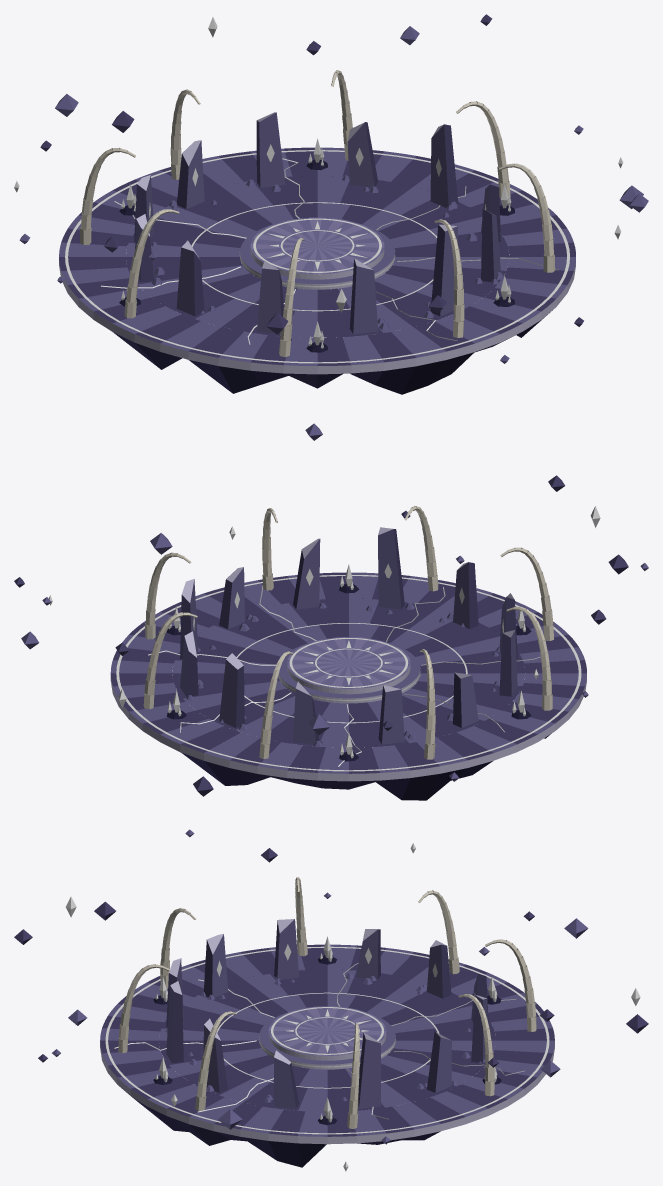
Rendered from arena.glb.
The picture shows the model from 3 angles, top to bottom: view 1: azimuth 30°, elevation 25°; view 2: azimuth 150°, elevation 25°; view 3: azimuth 270°, elevation 25°; orthographic projection. The views are drawn at different scales.
Visible parts, largest first — view 1: arena, accent; view 2: arena, accent; view 3: arena, accent.
Boxes of the visible parts, <box> form: arena: <box>19,14,648,394</box>; accent: <box>14,17,623,363</box>; arena: <box>14,423,648,800</box>; accent: <box>49,506,600,771</box>; arena: <box>14,829,648,1167</box>; accent: <box>66,843,640,1171</box>.
Size of the model in its own units: 43.77 by 12.74 by 47.47.
